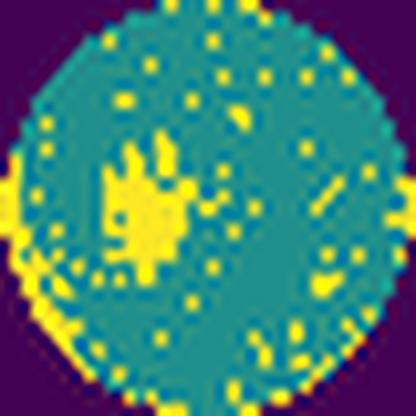Loc: (98, 139, 202, 284)
